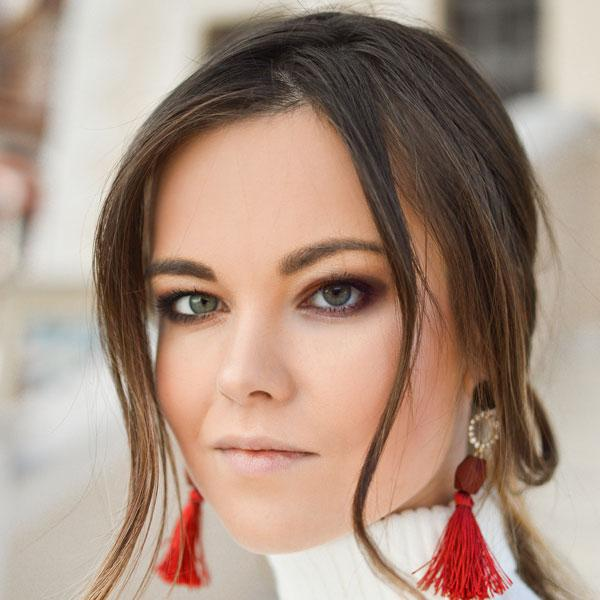Eyes: (288, 266, 384, 326), (147, 278, 236, 333)
